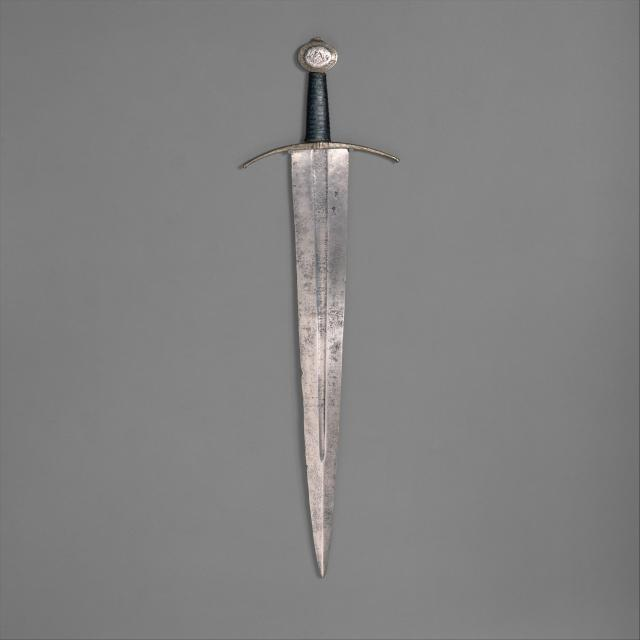weapon: (230, 31, 406, 585)
